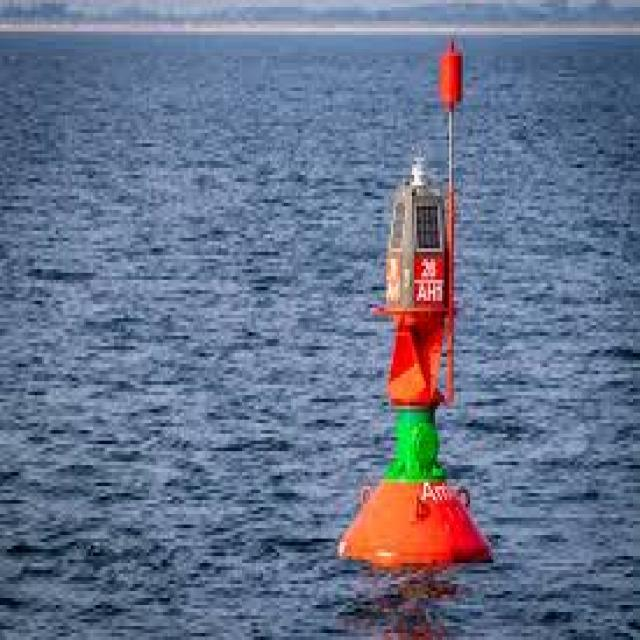buoy: (328, 3, 505, 586)
